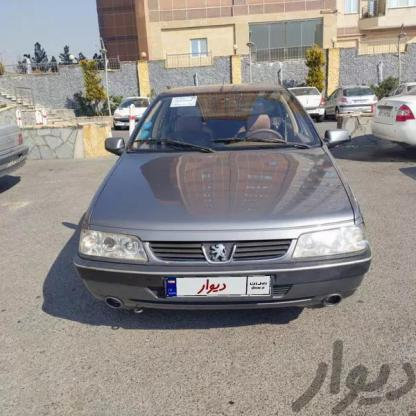Car: (79, 79, 377, 334), (0, 126, 41, 190), (102, 87, 158, 124), (384, 94, 416, 158), (292, 78, 330, 120), (328, 90, 376, 117)
